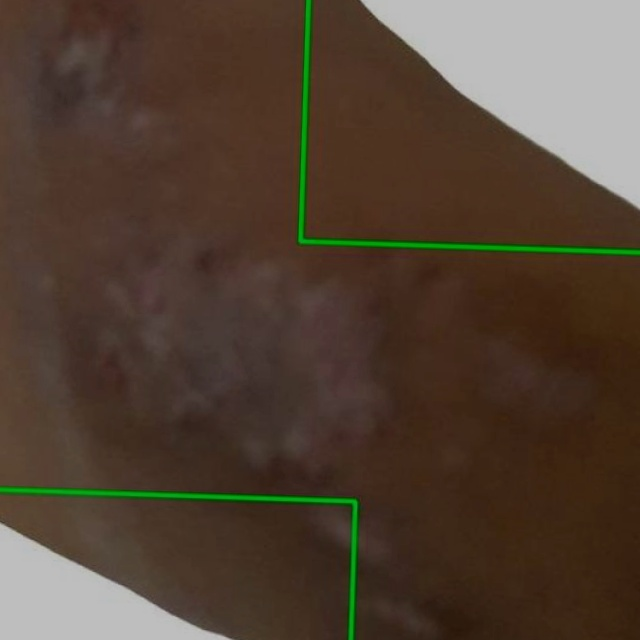Eczema: (300, 0, 639, 252)
